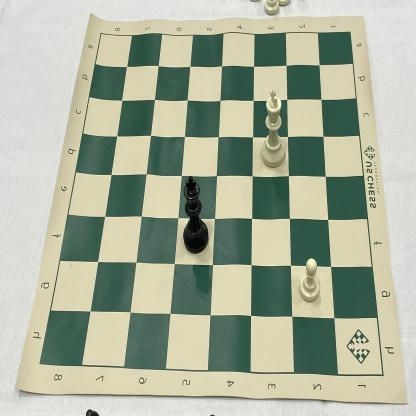black-king: (179, 171, 211, 256)
white-king: (260, 89, 288, 170)
white-pawn: (298, 255, 322, 305)
